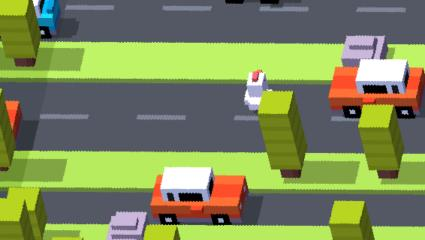hen: (245, 70, 267, 111)
obstacle: (150, 166, 251, 225), (330, 57, 424, 118), (260, 90, 307, 178), (359, 106, 403, 180), (0, 0, 40, 68), (328, 200, 378, 240), (7, 187, 45, 236), (342, 36, 389, 67), (23, 0, 61, 38), (0, 198, 33, 240), (0, 93, 15, 169), (109, 212, 149, 240), (0, 98, 23, 142)
